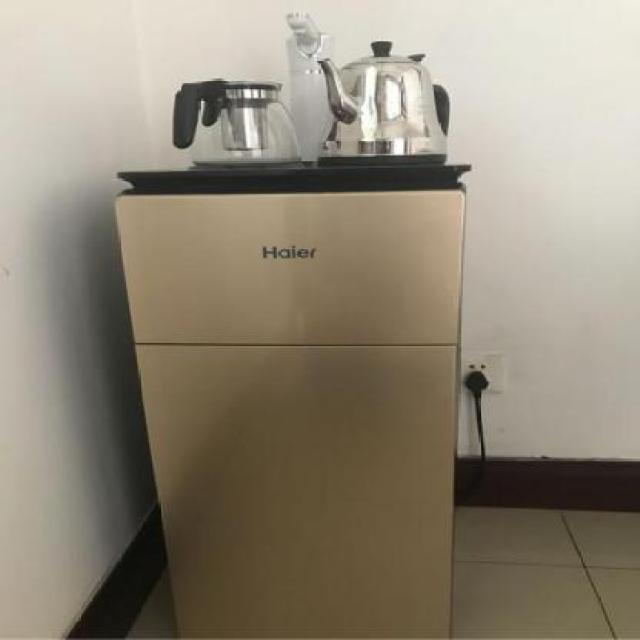cooler: (111, 7, 474, 640)
